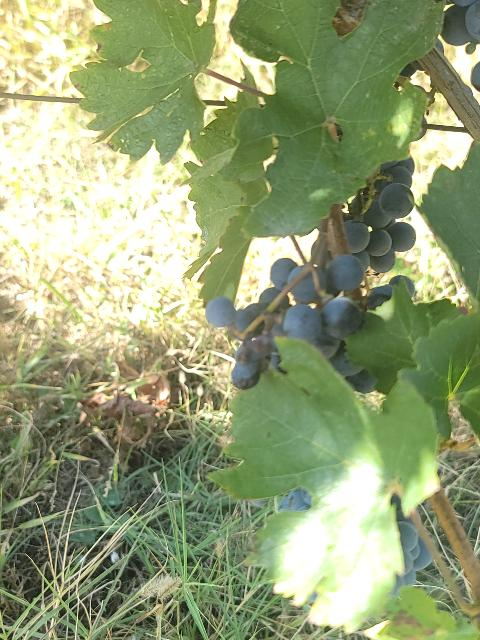grapes: (206, 255, 375, 392), (345, 159, 416, 272)
